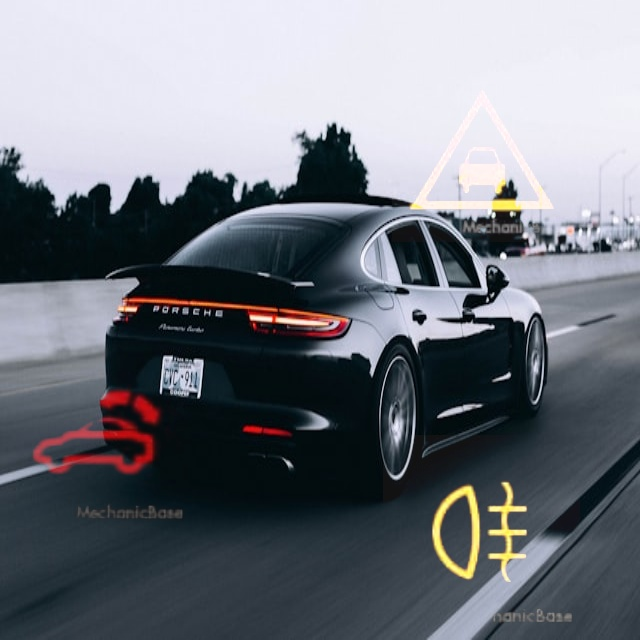symbol: (383, 435, 580, 632), (3, 341, 190, 528), (392, 62, 572, 242)
